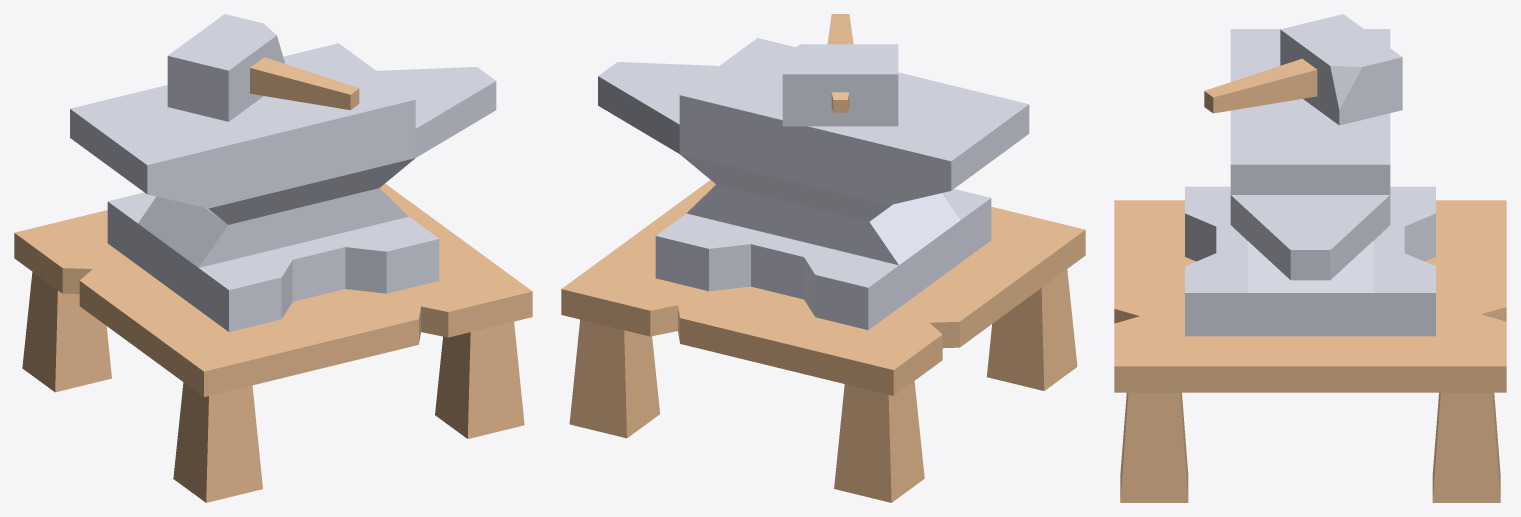
3 renders of one model, left to right at view 1: azimuth 30°, elevation 25°; view 2: azimuth 150°, elevation 25°; view 3: azimuth 270°, elevation 25°, orthographic. The views are drawn at different scales.
Parts seen in each view (by area): view 1: workbenchAnvil, hammer; view 2: workbenchAnvil, hammer; view 3: workbenchAnvil, hammer.
Part boxes in pixels (<box>): workbenchAnvil: <box>14,43,532,502</box>; hammer: <box>167,14,359,121</box>; workbenchAnvil: <box>561,38,1085,502</box>; hammer: <box>782,14,898,126</box>; workbenchAnvil: <box>1114,29,1506,502</box>; hammer: <box>1204,14,1402,125</box>.
Bounding box in the file's own units: 0.3092 × 0.2745 × 0.2688.
